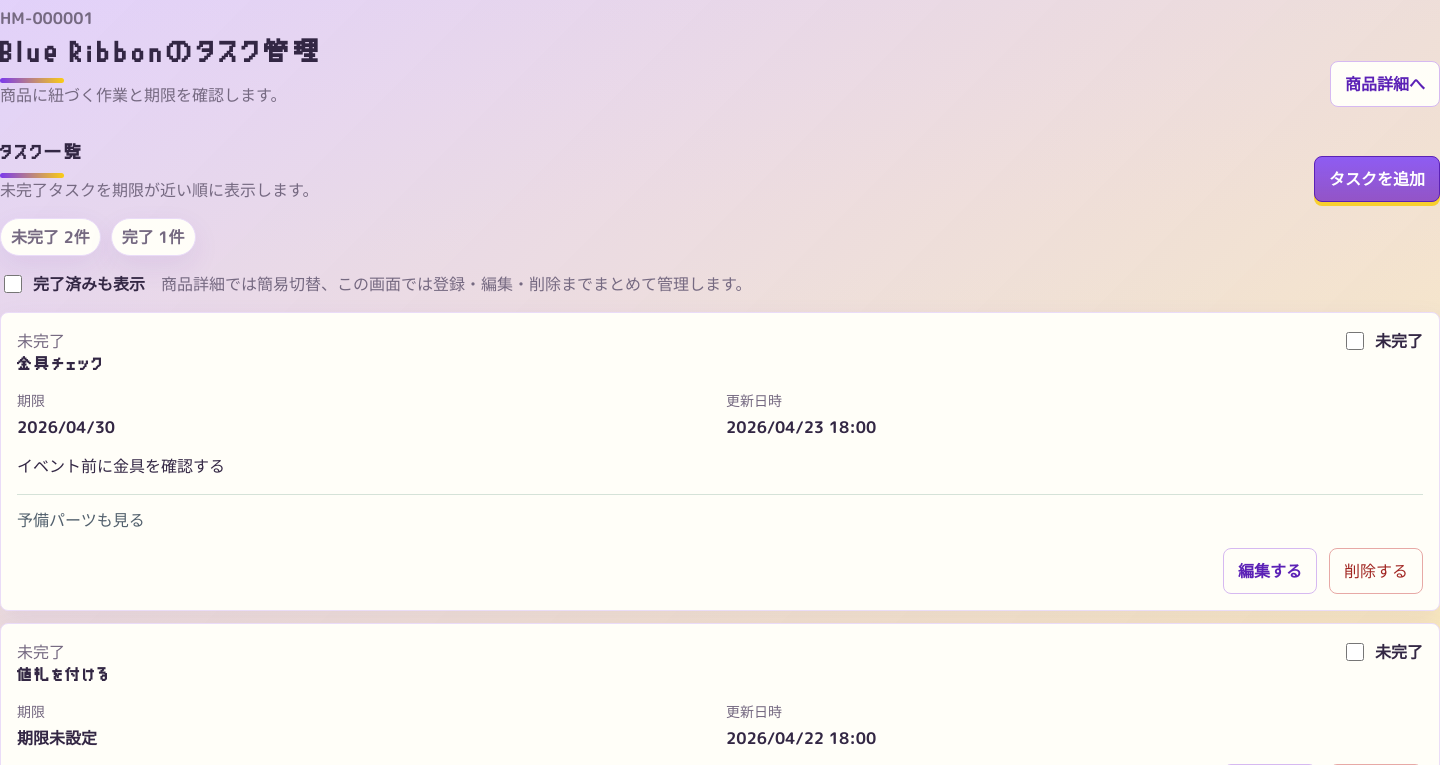
Test: ProductTaskManagementPage › shows completed tasks when the completed toggle is enabled
Check: the heading "金具チェック" is shown, box x1=17 y1=353 x2=105 y2=376
Click the checkbox labelled "完了済みも表示" at (13, 284), box x1=4 y1=275 x2=22 y2=293
(page scrolled)
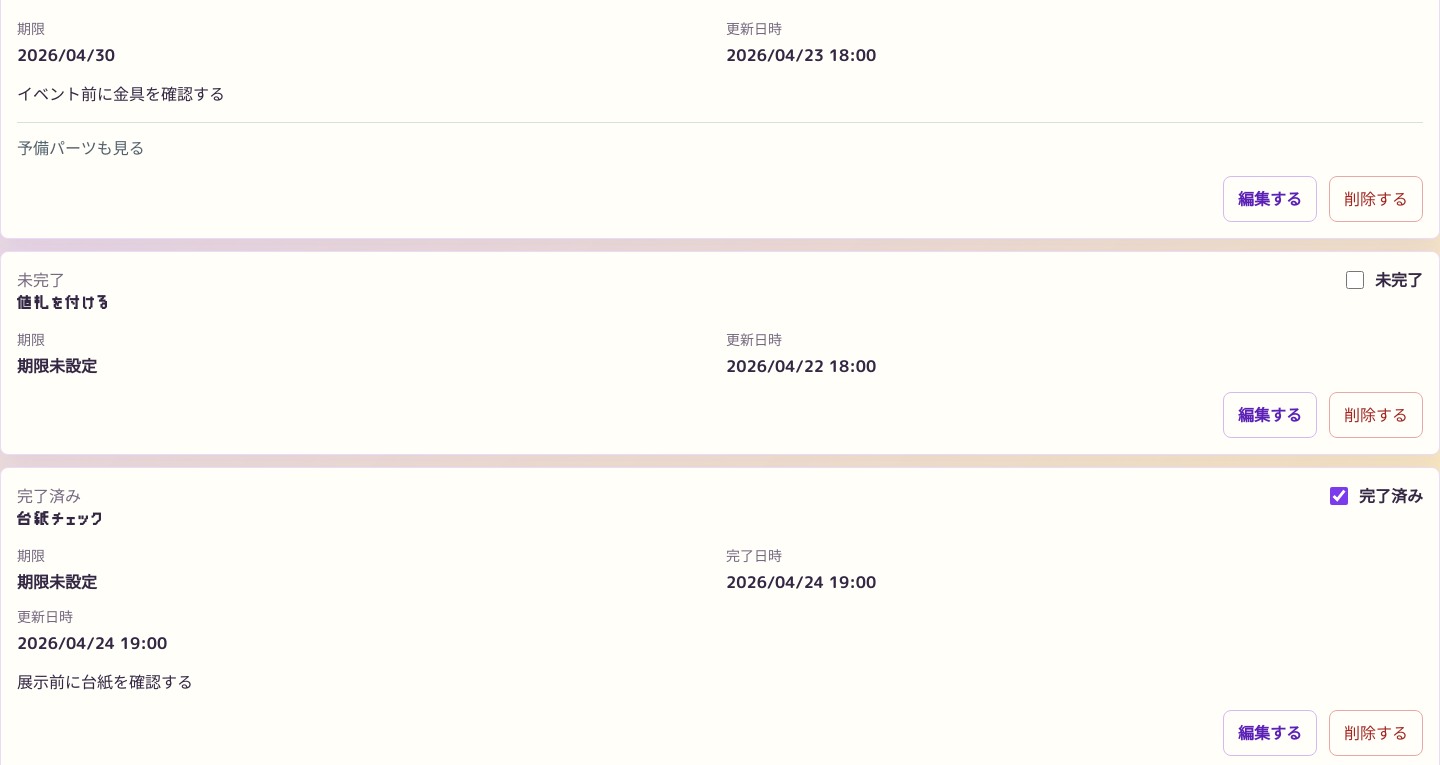
Check: the heading "台紙チェック" is shown, box x1=17 y1=508 x2=105 y2=531
Check: the text "展示前に台紙を確認する" is shown, box x1=17 y1=671 x2=193 y2=693
